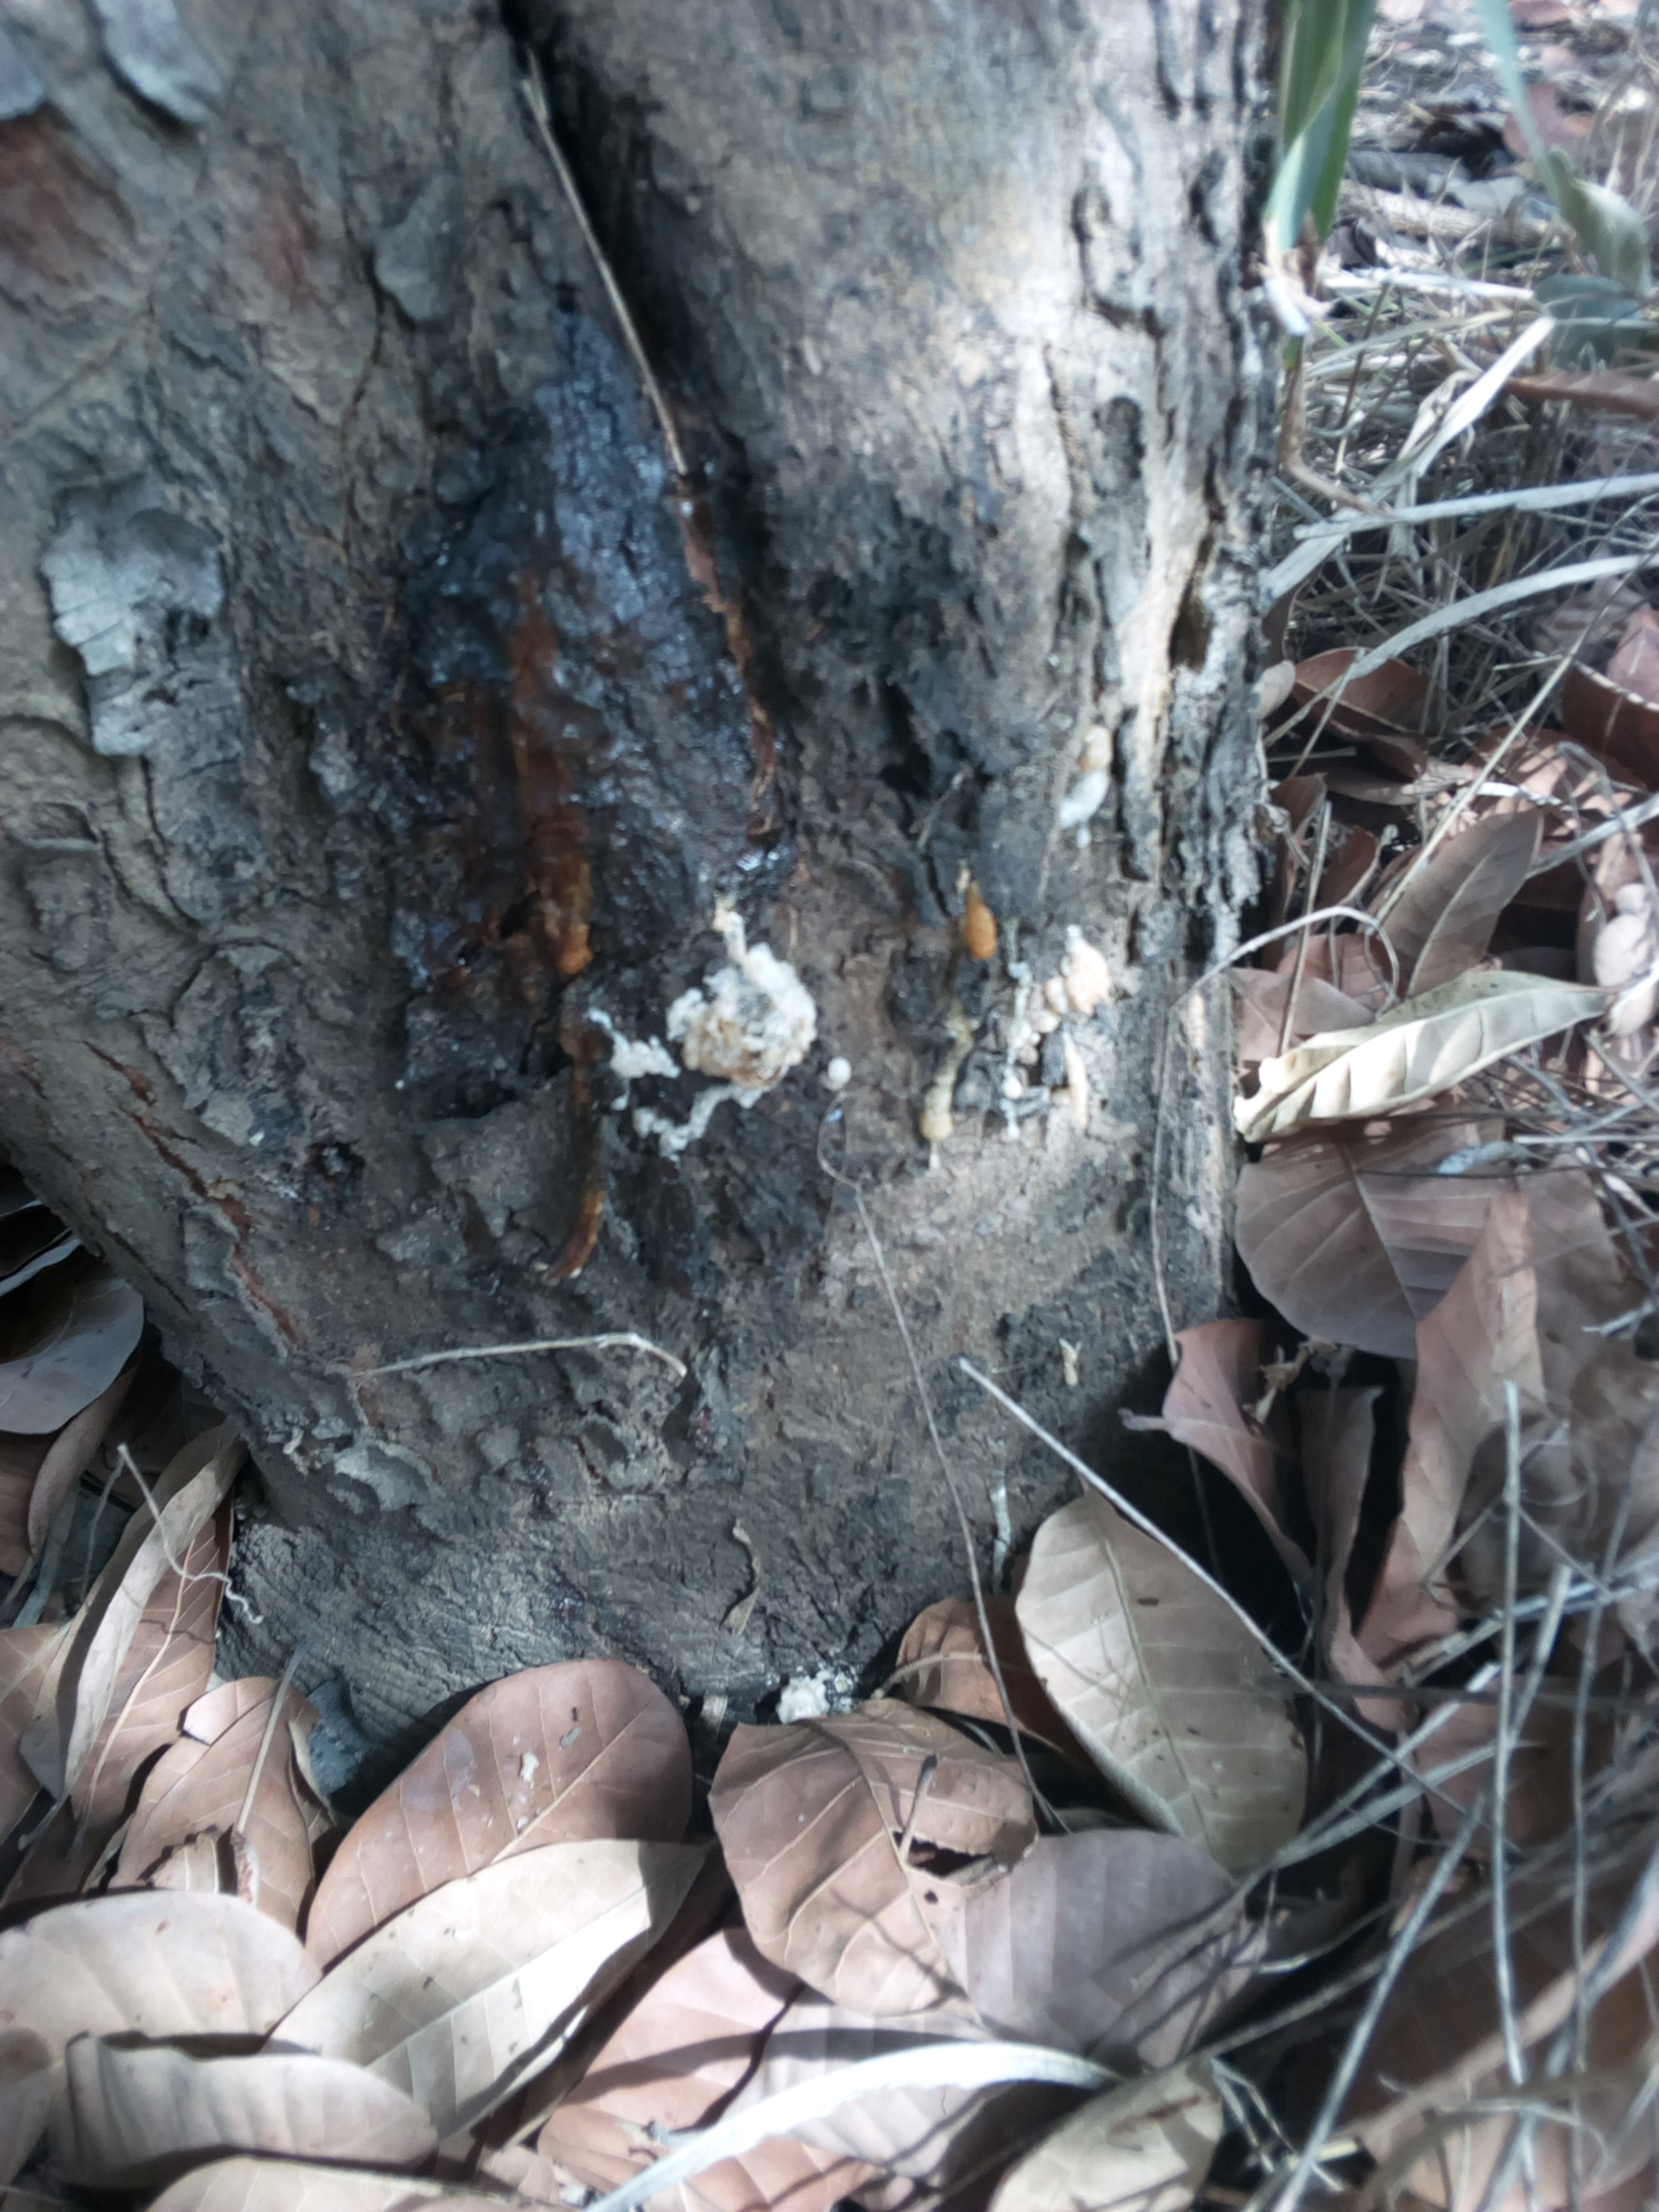Gommose: (305, 432, 1060, 1299)
